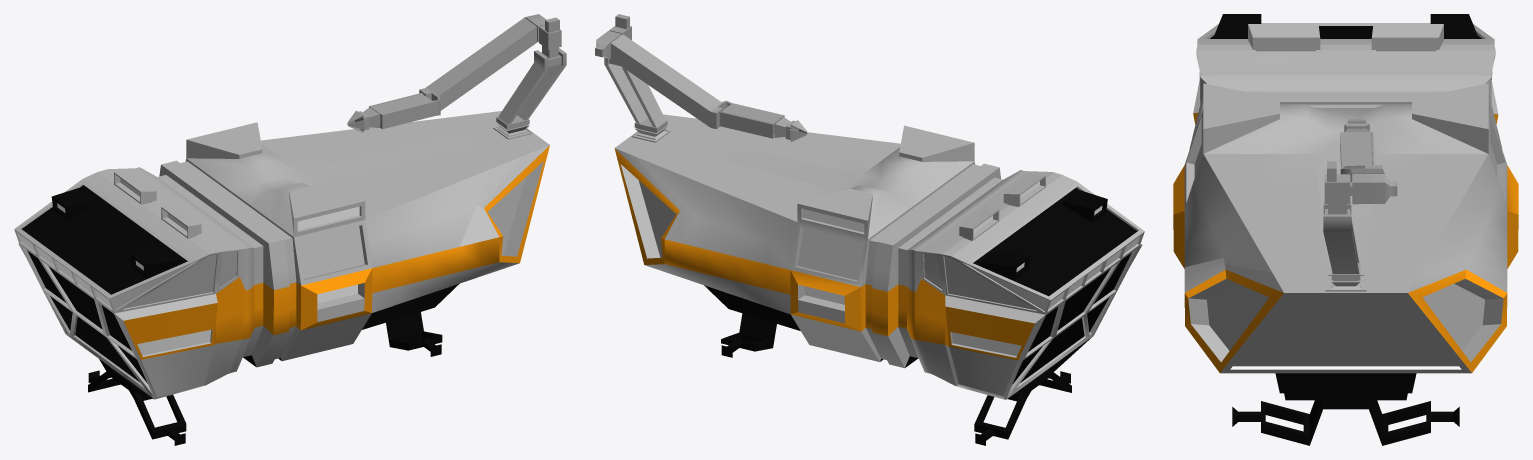
The model's file is Chassi Truck Like.fbx.
3 renders of one model, left to right at view 1: azimuth 30°, elevation 25°; view 2: azimuth 150°, elevation 25°; view 3: azimuth 270°, elevation 25°, orthographic. The views are drawn at different scales.
Parts seen in each view (by area): view 1: Chassi_Carro_Médio5; view 2: Chassi_Carro_Médio5; view 3: Chassi_Carro_Médio5.
Part boxes in pixels (box(x1,y1,x2,y2)): Chassi_Carro_Médio5: box(14, 14, 566, 445); Chassi_Carro_Médio5: box(595, 14, 1144, 445); Chassi_Carro_Médio5: box(1173, 14, 1518, 445).
Size of the model in its own units: 7.84 by 4.48 by 3.57.
